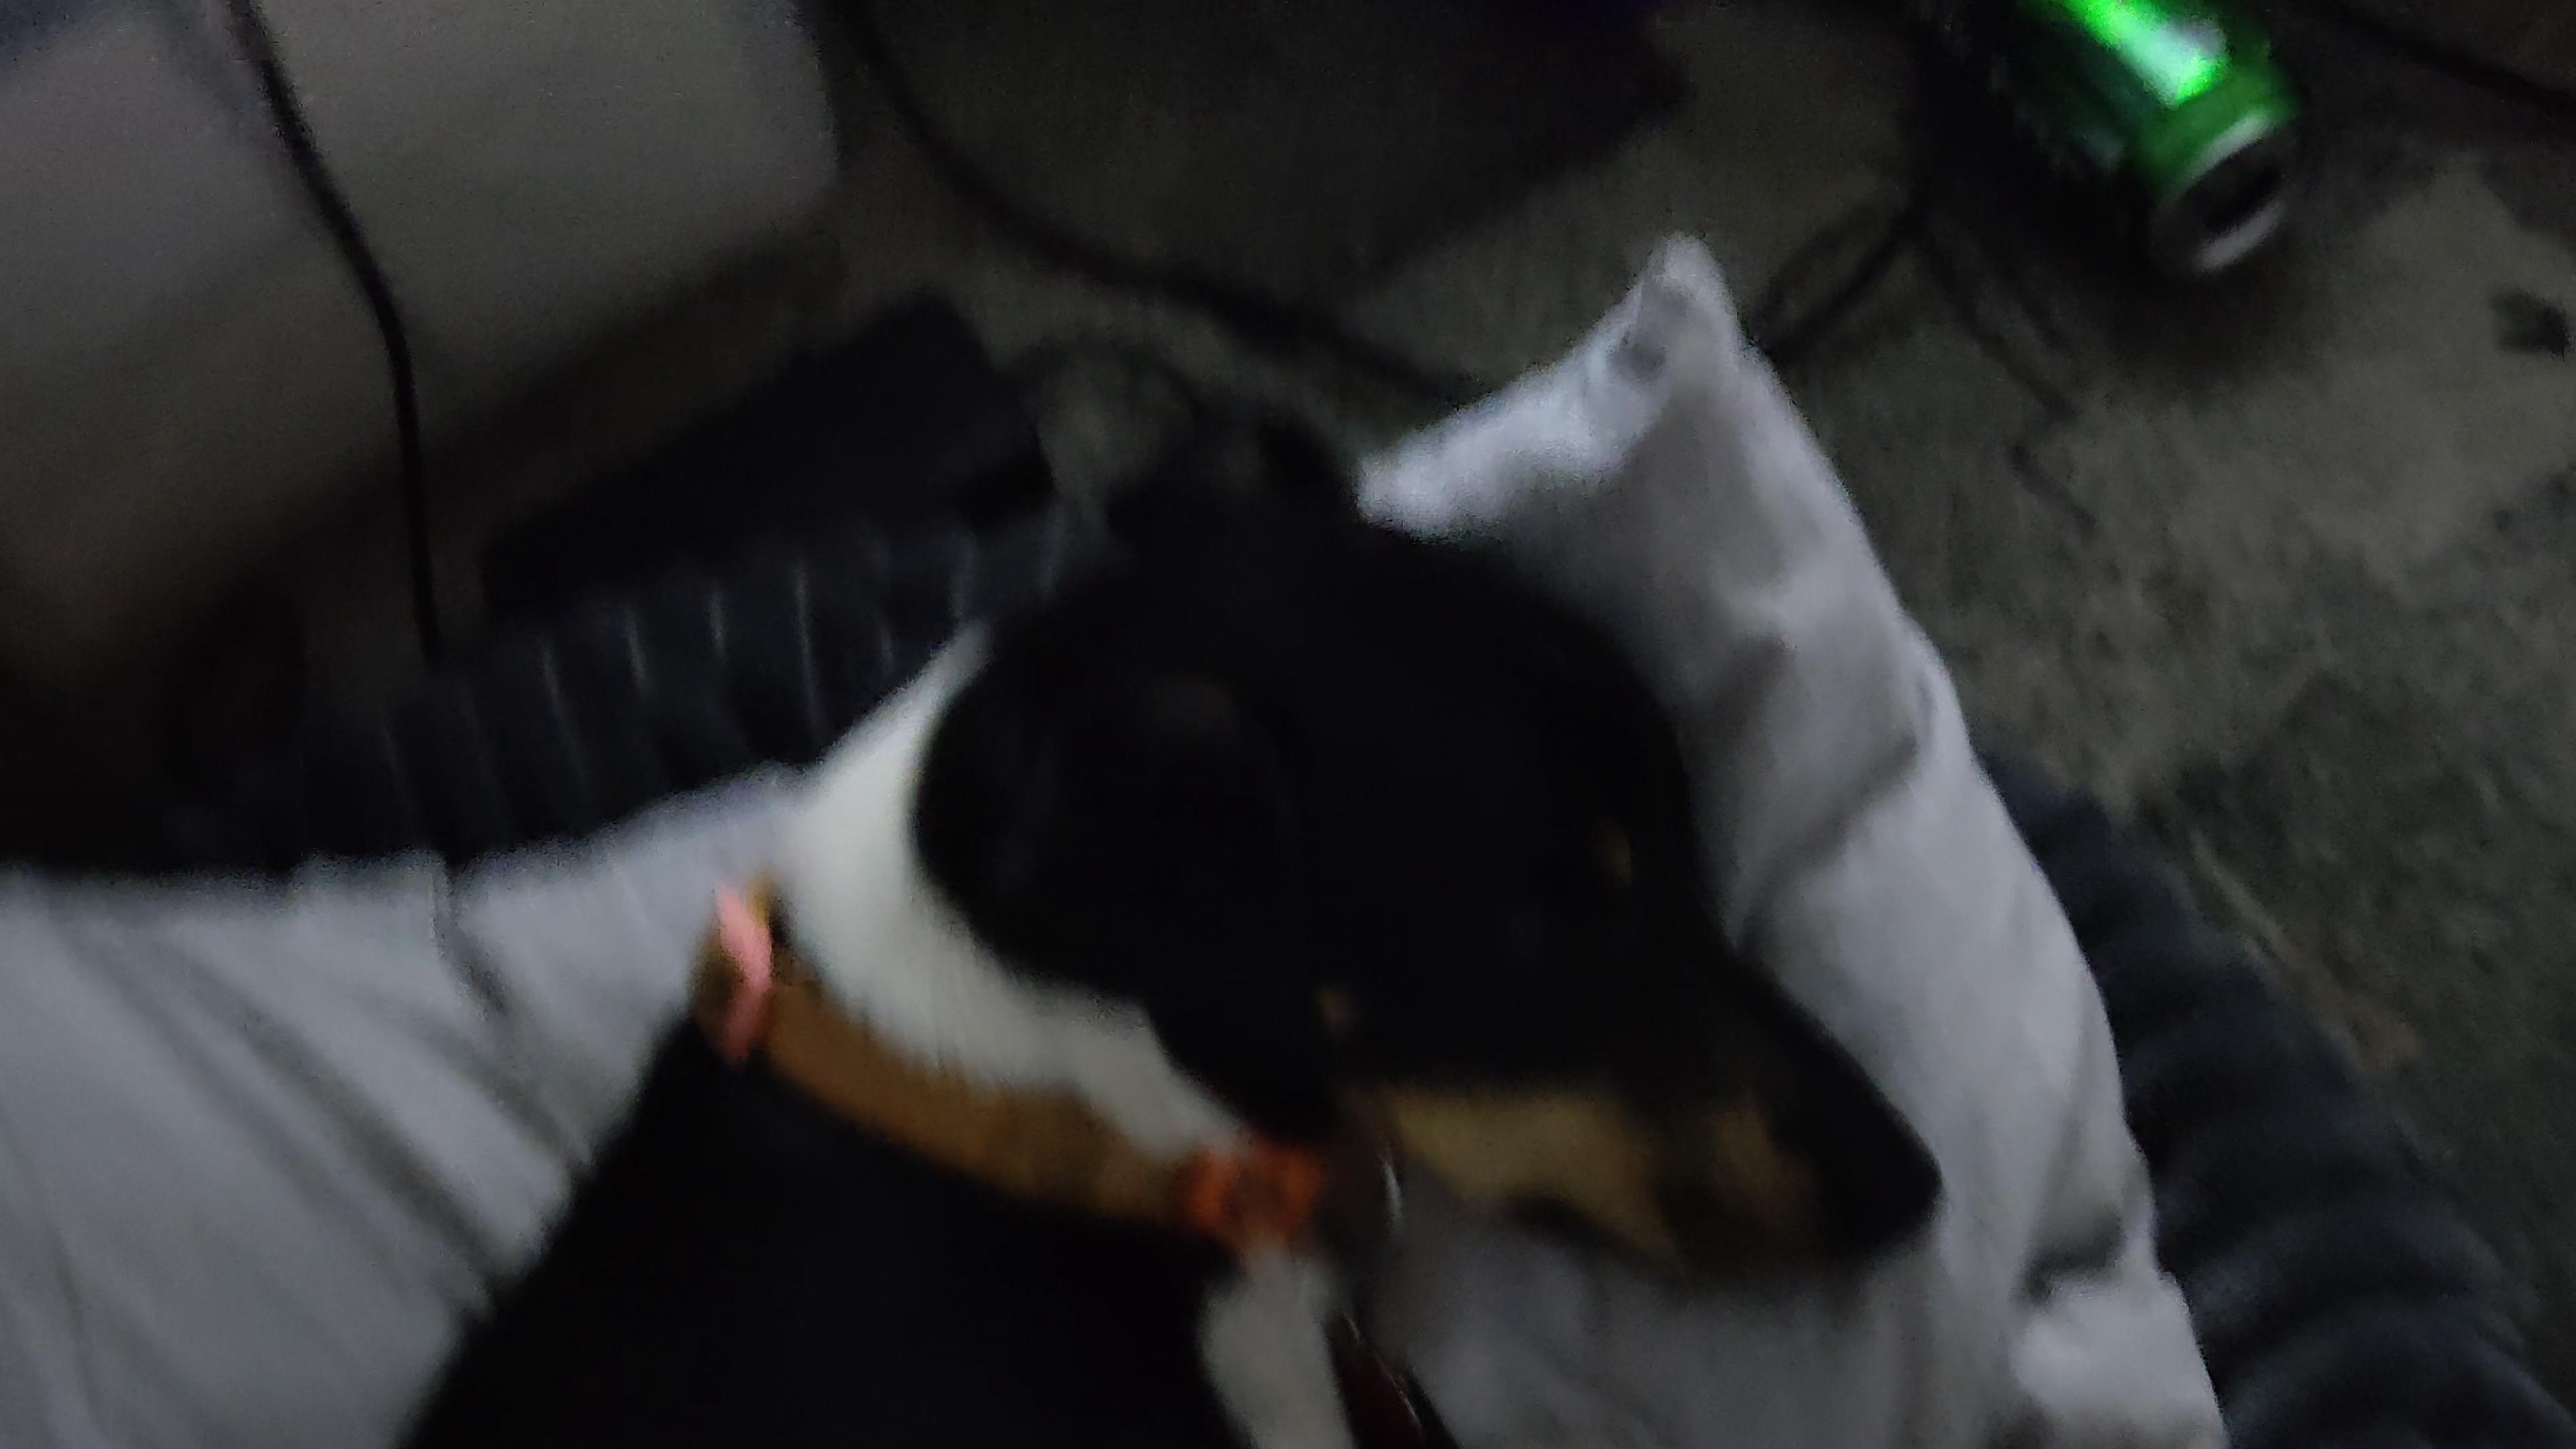Dog: (363, 366, 1955, 1449)
